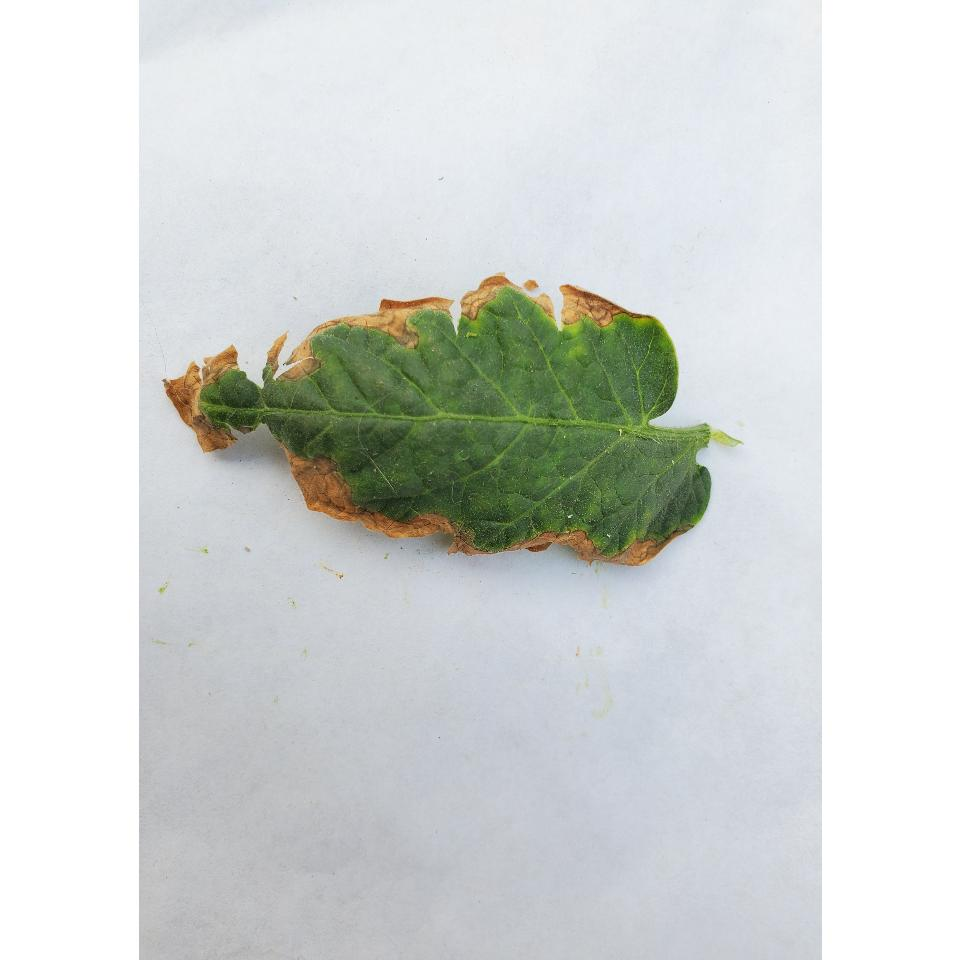tomato_bacterial_blight: (151, 286, 758, 574)
